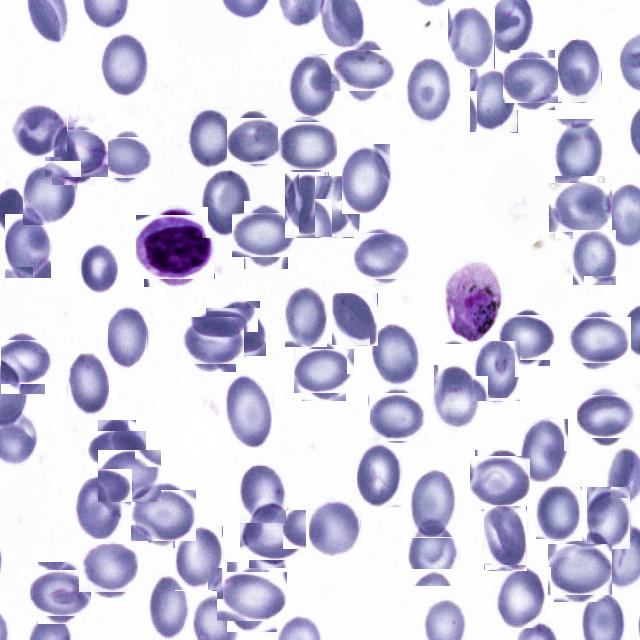difficult: (445, 262, 503, 344)
leukocyte: (140, 210, 212, 282)
red blood cell: (225, 372, 272, 449), (222, 567, 282, 627), (134, 486, 193, 544), (99, 33, 150, 100), (100, 448, 158, 506), (551, 541, 609, 599), (342, 144, 390, 214), (23, 163, 77, 225), (202, 169, 250, 238), (245, 506, 302, 564), (554, 119, 603, 186), (408, 522, 458, 587), (12, 101, 68, 158), (411, 468, 456, 538), (184, 312, 240, 368), (238, 207, 294, 263), (552, 180, 608, 236), (570, 312, 626, 368), (472, 452, 528, 508), (175, 526, 223, 591), (496, 565, 545, 628), (406, 58, 452, 125), (48, 126, 104, 181), (289, 54, 337, 118), (470, 69, 518, 133), (521, 419, 569, 483), (5, 214, 52, 279), (285, 172, 330, 239), (75, 474, 122, 538), (448, 7, 495, 71), (370, 323, 419, 384), (81, 542, 136, 596), (309, 500, 361, 557), (473, 341, 521, 402), (357, 443, 402, 508), (34, 566, 88, 620), (209, 304, 263, 358), (230, 114, 284, 168), (280, 120, 334, 174), (337, 44, 391, 98), (371, 391, 424, 444), (484, 506, 527, 571), (315, 176, 360, 238), (188, 107, 232, 170), (558, 40, 602, 103), (587, 487, 631, 550), (434, 365, 478, 428), (298, 344, 350, 397), (0, 335, 51, 389), (240, 466, 287, 524), (506, 54, 558, 106), (580, 390, 632, 442), (502, 311, 554, 363), (68, 352, 109, 417), (285, 284, 327, 347), (356, 231, 407, 282), (148, 575, 188, 640), (108, 306, 148, 370), (101, 133, 151, 183), (536, 486, 582, 540), (573, 230, 617, 286), (332, 293, 378, 346), (92, 426, 142, 474), (80, 241, 118, 294)
